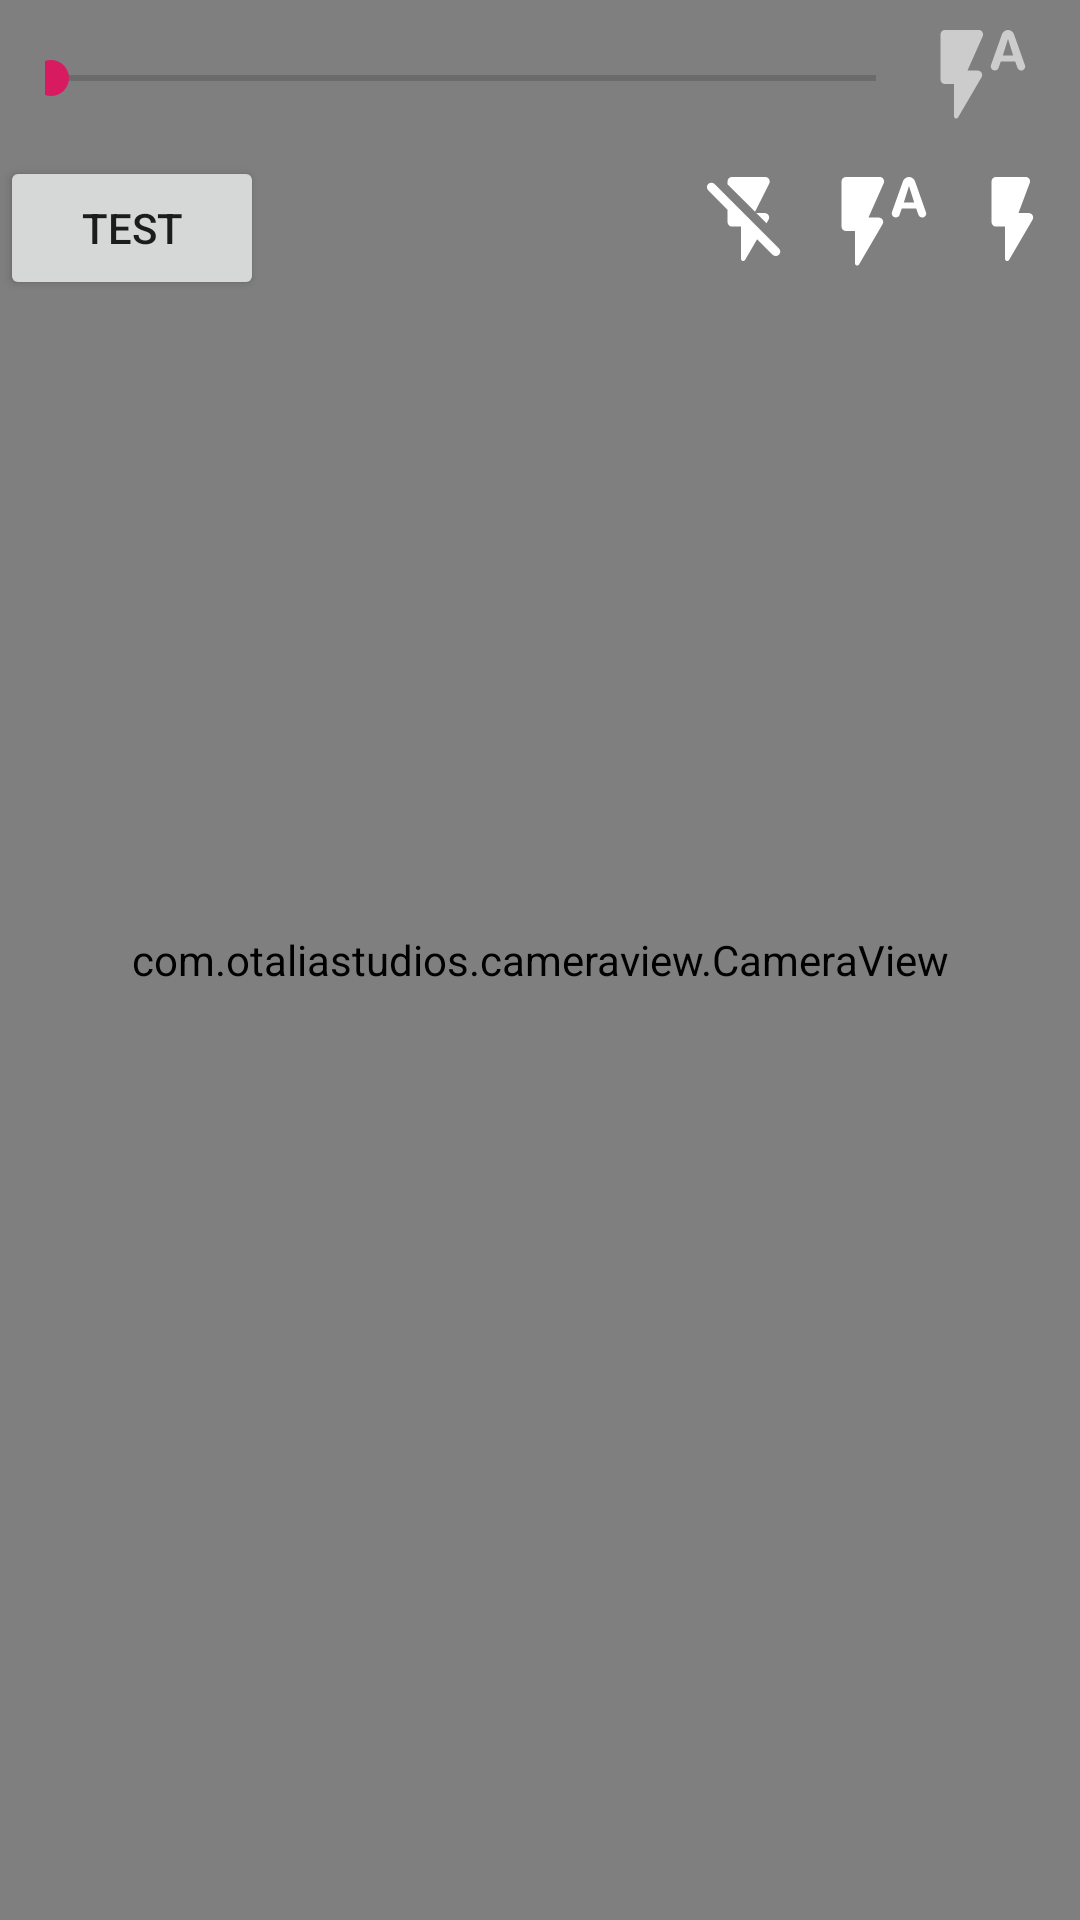

Screen size 1080 x 1920. Icon name, then its box in pixels as [x1, y1, x2, y2]:
flash auto: [940, 30, 1025, 119], [841, 177, 926, 266]
flash off: [707, 177, 781, 261]
flash on: [991, 177, 1033, 261]
